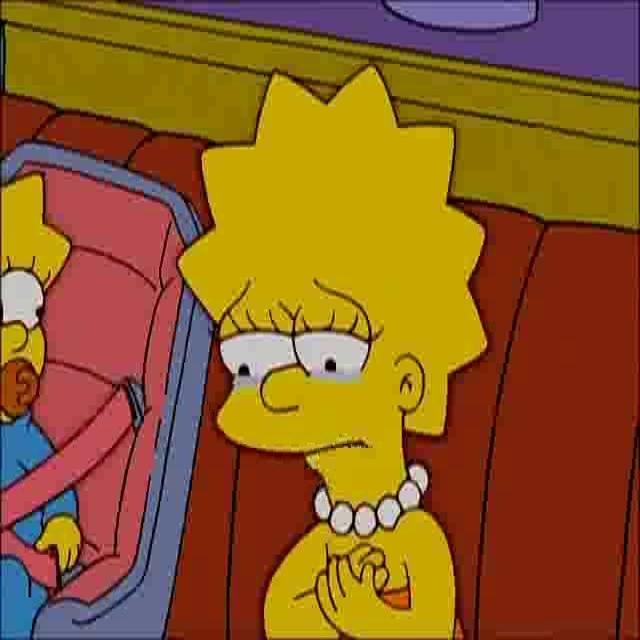Lisa Simpson: (175, 58, 489, 530)
Maggie Simpson: (0, 168, 74, 427)
